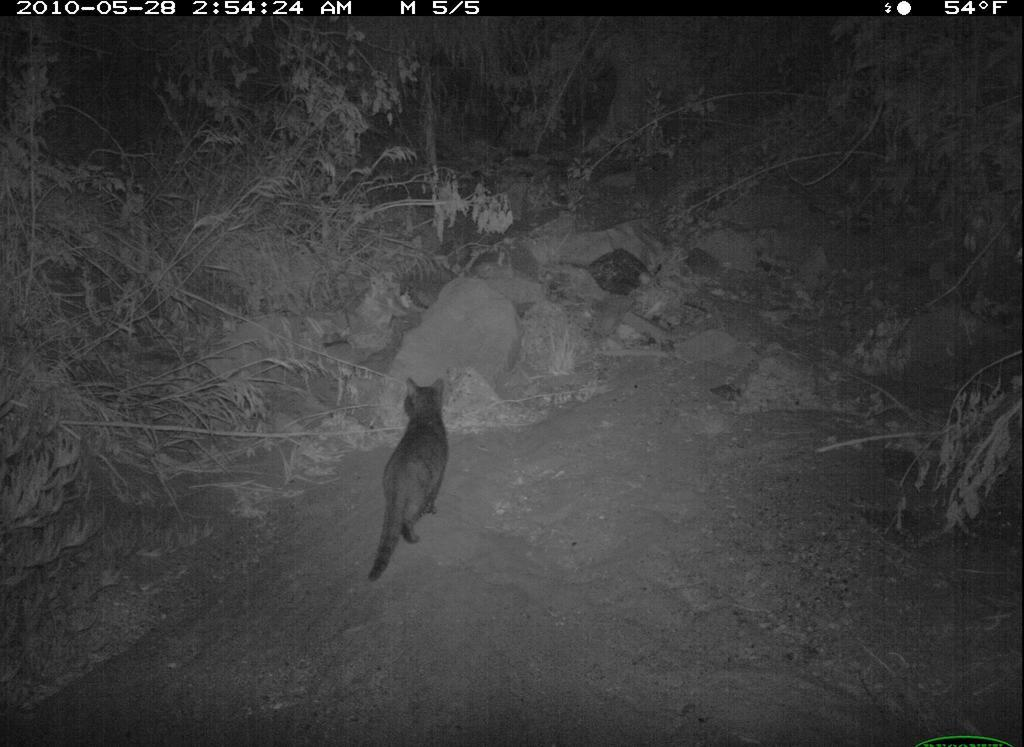cat: (370, 375, 453, 585)
